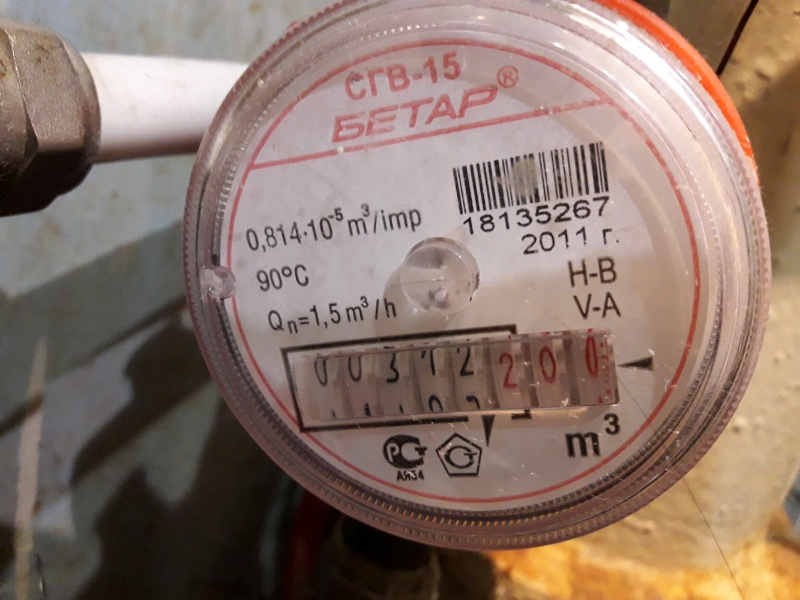dial: (289, 336, 618, 403)
